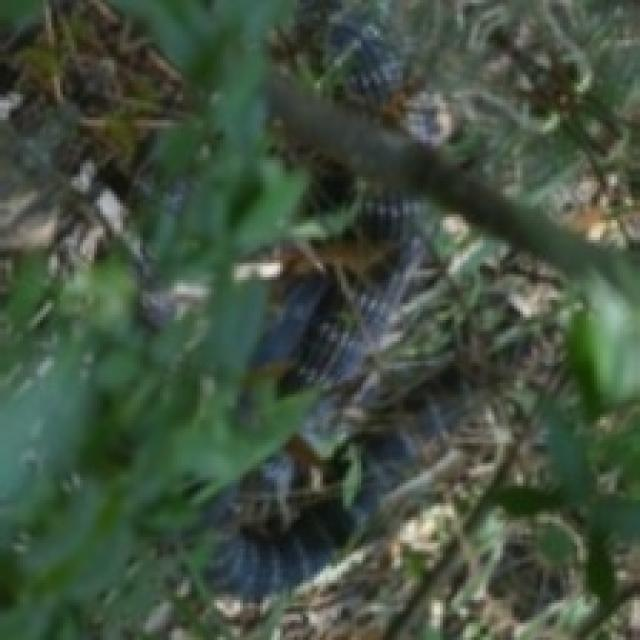king cobra: (209, 117, 460, 614), (269, 0, 423, 123)
